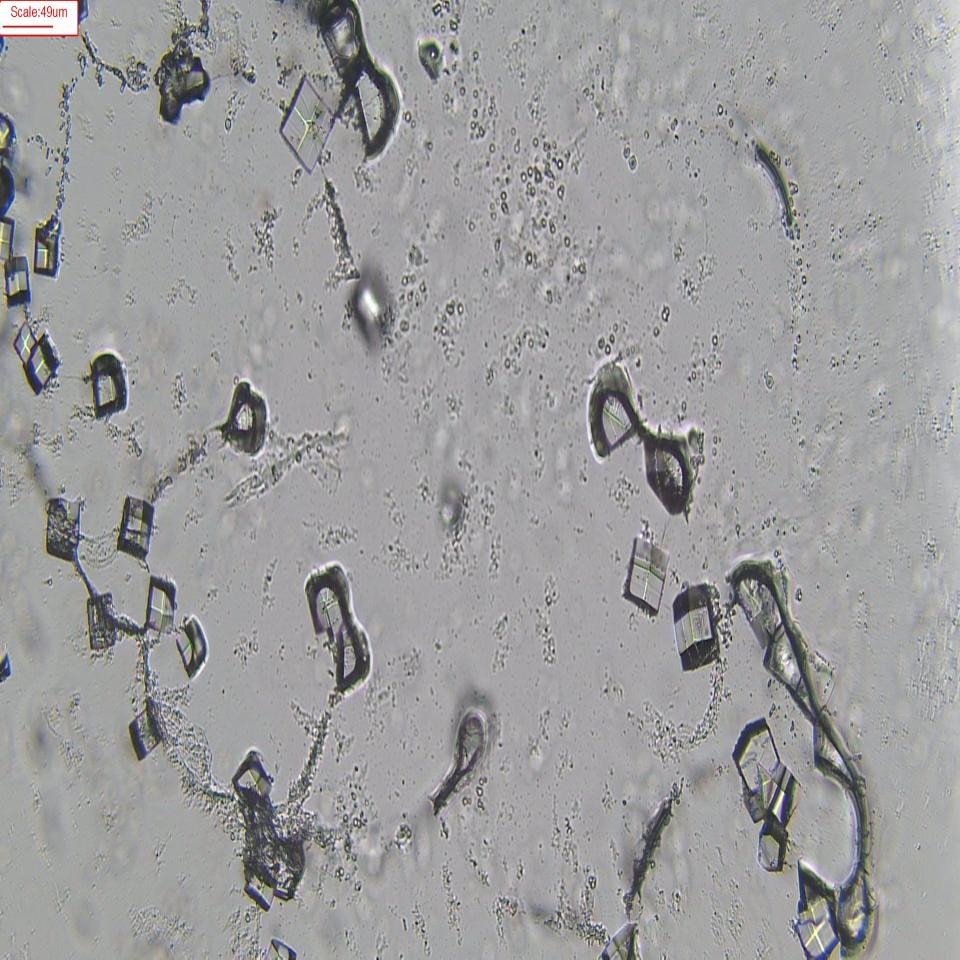crystal: (273, 73, 335, 166), (669, 578, 722, 666), (220, 381, 270, 458), (84, 348, 134, 416), (627, 538, 667, 616), (145, 576, 179, 638), (174, 615, 209, 675), (119, 496, 148, 555), (29, 228, 63, 276), (4, 258, 31, 304)
not_crystal: (736, 737, 794, 874)
